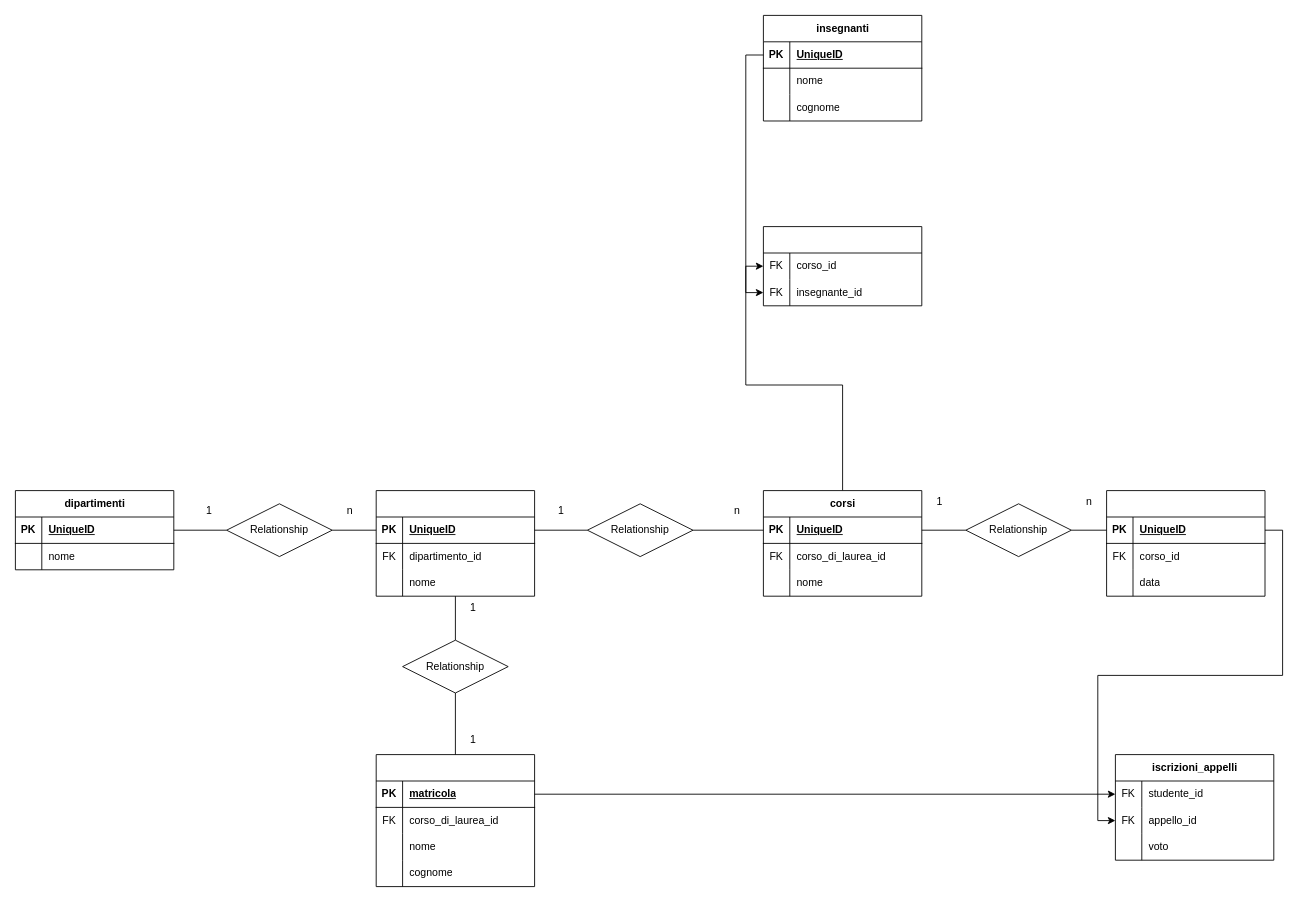
This 1305x902 diagram has some shape labels left out. Here are the shapes that lost their labels. From the top down, the box of each, then its label:
(763, 226, 922, 306): corsi_insegnanti
(375, 490, 535, 596): corsi_di_laurea
(1106, 490, 1265, 596): appelli_esame
(375, 754, 535, 887): studenti
